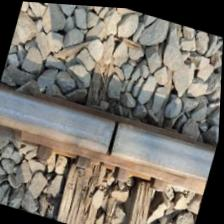person: (81, 101, 147, 170)
